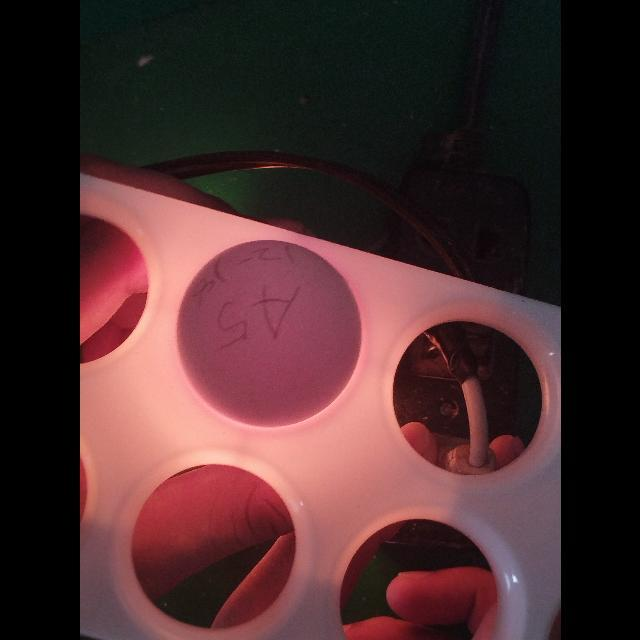Fertile: (174, 236, 366, 429)
